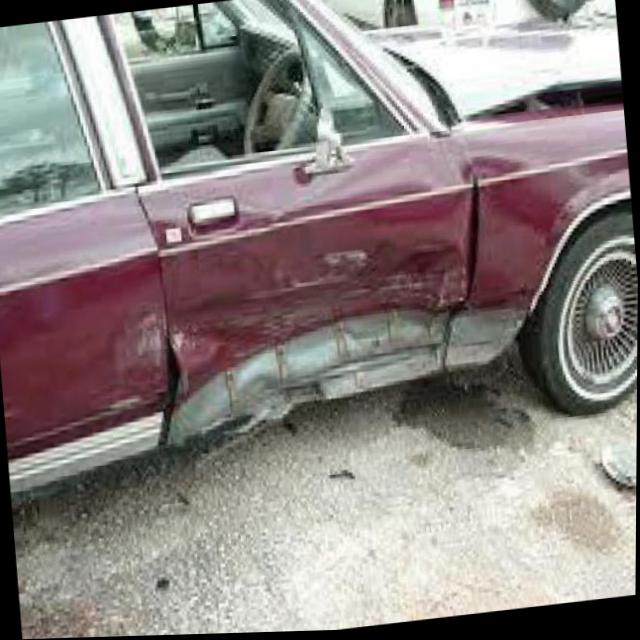Car-Damage: (108, 79, 639, 454)
